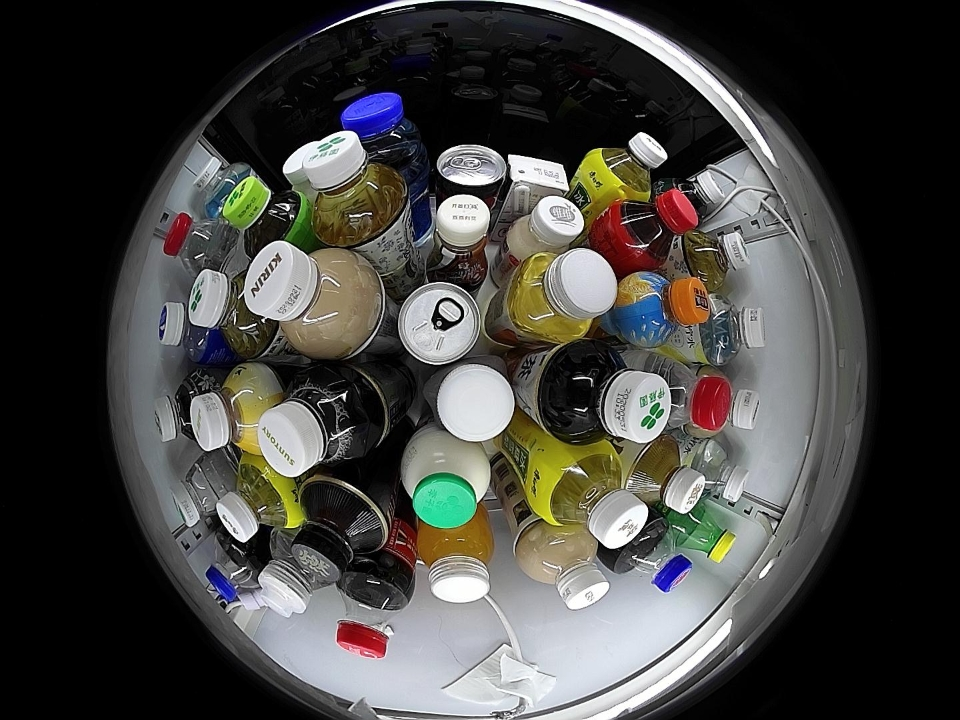asamu: (190, 365, 276, 454)
baicha: (305, 131, 407, 246), (188, 268, 275, 359), (683, 229, 750, 291)
baishikele-2: (614, 519, 693, 593), (205, 536, 264, 602)
baokuangli: (158, 302, 220, 364)
binghongcha: (609, 189, 698, 269)
bingtangxueli: (536, 445, 648, 550), (216, 456, 302, 543), (588, 131, 668, 202)
chapai2: (511, 250, 618, 344)
damaicha: (545, 344, 671, 444)
guolicheng: (617, 270, 709, 348)
jianjiao: (258, 533, 328, 618)
jindian: (506, 154, 570, 202)
kafei: (420, 194, 492, 283)
kele-b: (335, 570, 412, 660)
lingdukele: (432, 144, 508, 203)
liziyuan: (399, 429, 492, 529)
maidong: (340, 91, 424, 169)
moliqingcha: (153, 373, 207, 445), (664, 168, 726, 223)
nongfushanquan: (643, 355, 732, 435), (162, 212, 232, 276)
qinningshui: (698, 296, 768, 366), (689, 438, 750, 504), (193, 157, 254, 212)
rancha-1: (289, 476, 391, 581)
rancha-2: (625, 437, 705, 515)
weic: (416, 515, 495, 604)
weiweidounai: (508, 195, 586, 260)
wuhounaicha: (244, 242, 380, 359), (518, 526, 610, 611), (717, 370, 762, 433)
wulongcha: (258, 369, 372, 477)
xuebi-b: (674, 505, 737, 565)
yezhi: (396, 281, 484, 364)
yibao: (169, 454, 230, 528)
yitengyuan: (221, 176, 309, 252)
youyanggudong: (422, 358, 515, 441)
